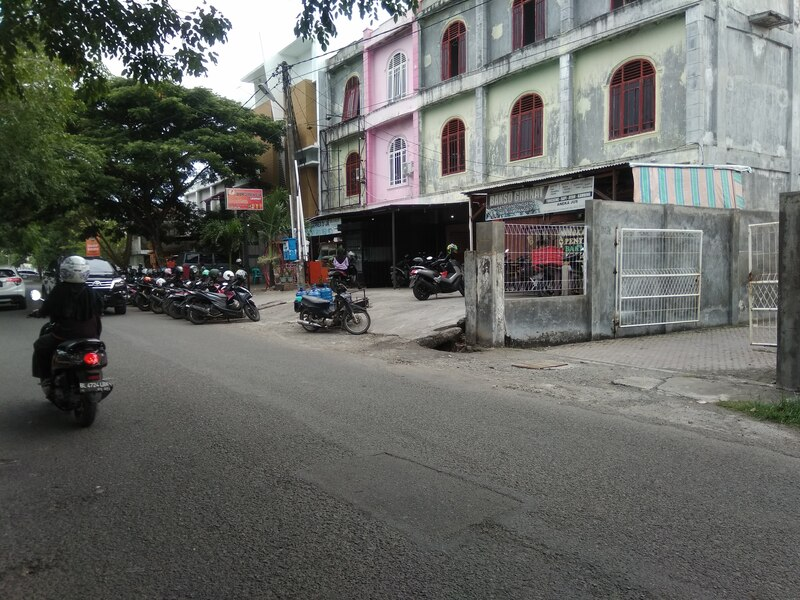becak barang: (291, 278, 377, 338)
